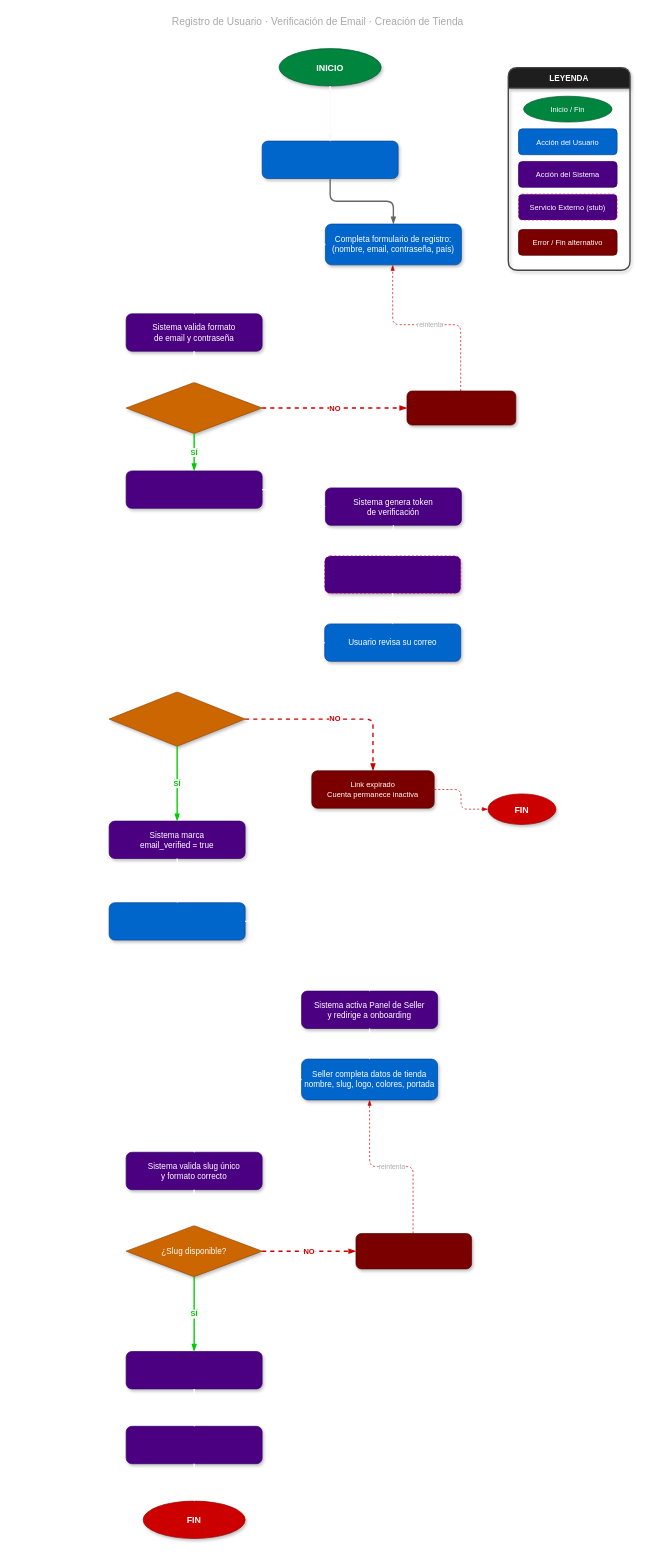
Image size: 646x1555. Some labels were removed from this diagram. Each missing label, with the centre of its shape:
"EmailService.sendVerificationEmail() (stub — sin integración real aún)" goes at (x=393, y=575).
"Muestra errores en el formulario" goes at (x=462, y=409).
"Seller redirigido a su Dashboard con checklist de onboarding" goes at (x=194, y=1445).
"Sistema crea cuenta email_verified = false" goes at (x=194, y=490).
"Sistema crea tienda status = active" goes at (x=194, y=1371).
"Sugiere slug alternativo y muestra error" goes at (x=414, y=1252).
"Usuario entra a /register" goes at (x=330, y=160).
"Usuario selecciona rol: Seller" goes at (x=177, y=922).
"¿Datos válidos?" goes at (x=194, y=408).
"¿Hace clic en el link de verificación?" goes at (x=177, y=719).
